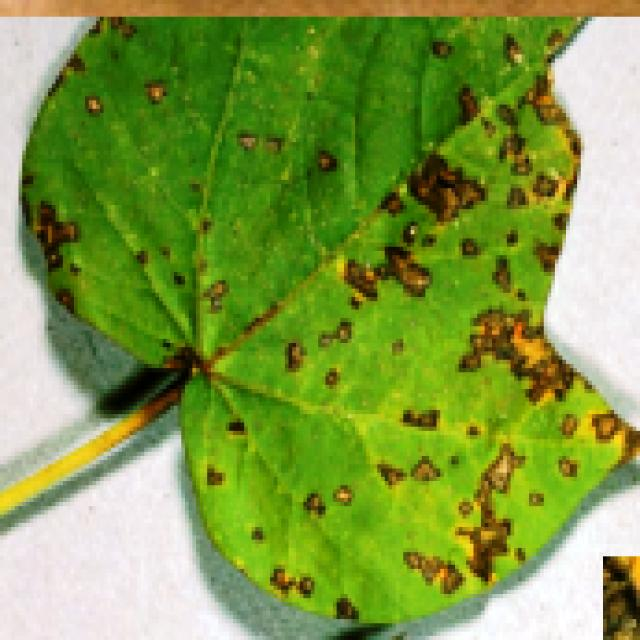Bacterial Blight: (351, 81, 563, 588)
